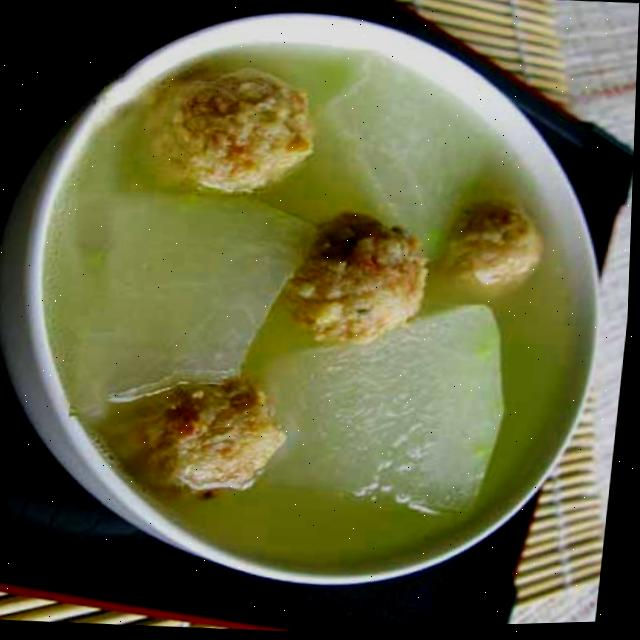汤锅炖物: (0, 0, 625, 610)
